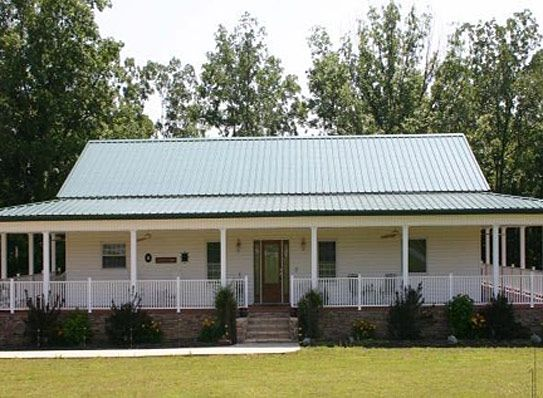Tin-shade House: (12, 107, 526, 343)
